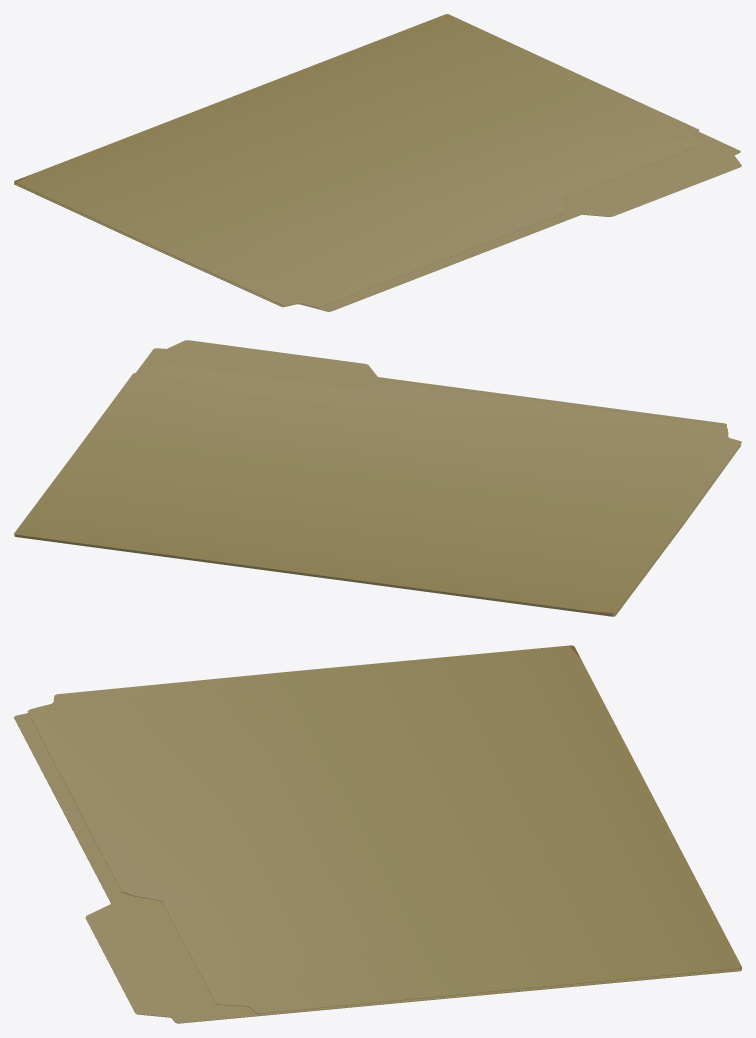
Rendered from mesh_folder_LOD1_001.fbx.
3 views of the same model, one above another, from view 1: azimuth 30°, elevation 25°; view 2: azimuth 150°, elevation 25°; view 3: azimuth 270°, elevation 25° (orthographic). The views are drawn at different scales.
Visible parts, largest first — view 1: folder_spine_LOD1.002, folder_spine_LOD1.001; view 2: folder_spine_LOD1.002, folder_spine_LOD1.001, folder_spine_LOD1; view 3: folder_spine_LOD1.002, folder_spine_LOD1.001.
Part boxes in pixels (x1,y1,x2,y2): folder_spine_LOD1.002: (14,14,700,307); folder_spine_LOD1.001: (14,131,741,311); folder_spine_LOD1.002: (14,365,741,614); folder_spine_LOD1.001: (14,340,741,616); folder_spine_LOD1: (15,534,612,616); folder_spine_LOD1.002: (27,645,741,1013); folder_spine_LOD1.001: (14,713,741,1023).
Size of the model in its own units: 69.2 by 0.2545 by 56.71.
